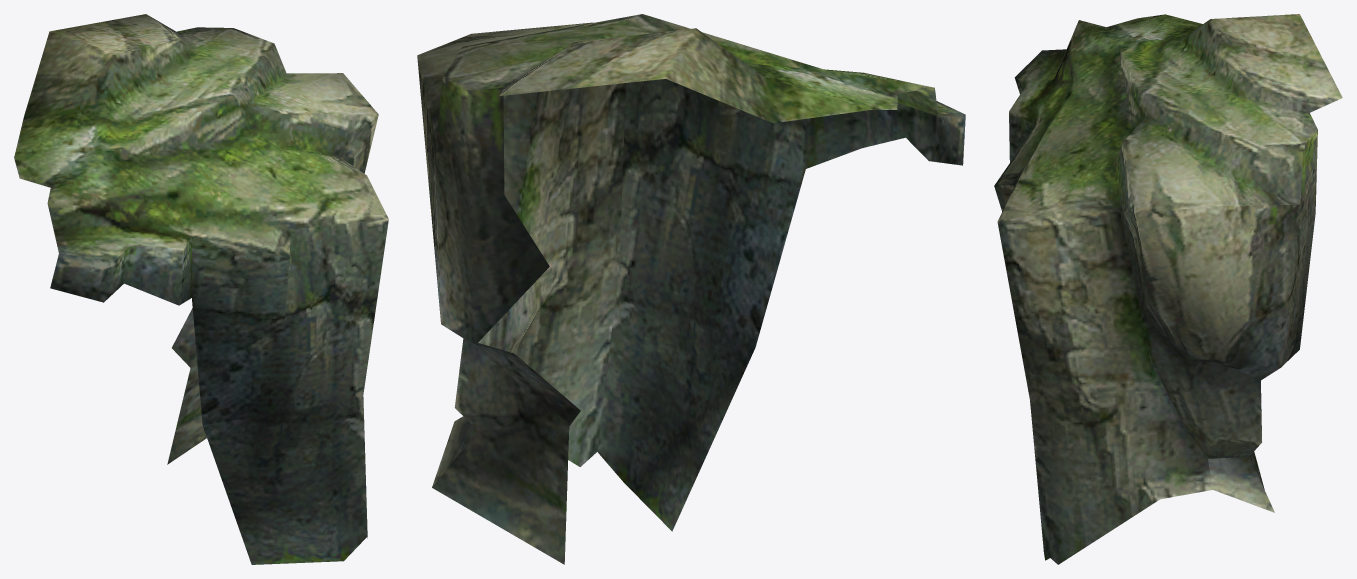
File: S_Rock_Green047_1060_13.fbx
3 renders of one model, left to right at view 1: azimuth 30°, elevation 25°; view 2: azimuth 150°, elevation 25°; view 3: azimuth 270°, elevation 25°, orthographic. The views are drawn at different scales.
Visible parts, largest first — view 1: S_Rock_Green047_1060_13; view 2: S_Rock_Green047_1060_13; view 3: S_Rock_Green047_1060_13.
Boxes of the visible parts, bbox=[...] form: S_Rock_Green047_1060_13: bbox=[14, 14, 388, 564]; S_Rock_Green047_1060_13: bbox=[417, 14, 965, 564]; S_Rock_Green047_1060_13: bbox=[994, 14, 1342, 564].
Size of the model in its own units: 971 by 1198 by 792.
1 material, 1 textured.
